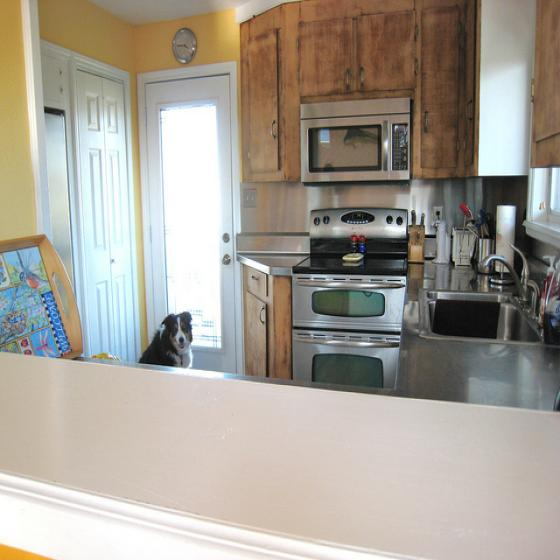bottle: (544, 260, 560, 346), (538, 254, 556, 328)
clock: (172, 28, 198, 65), (353, 214, 363, 222)
dog: (136, 313, 192, 369)
knife: (467, 226, 481, 239), (411, 210, 417, 228), (420, 214, 425, 230), (417, 230, 420, 242)
microwave: (301, 98, 413, 187)
oven: (291, 209, 410, 392)
sink: (418, 288, 545, 346)
